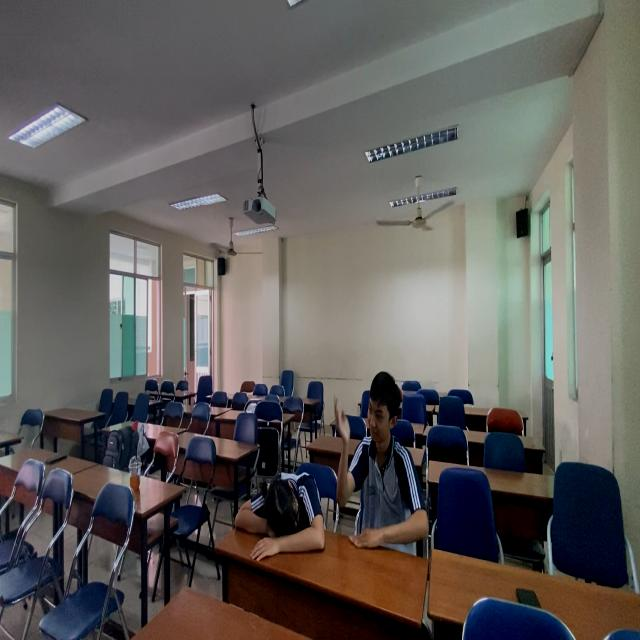raise_hand: (334, 376, 431, 585)
sleep: (235, 464, 325, 564)
